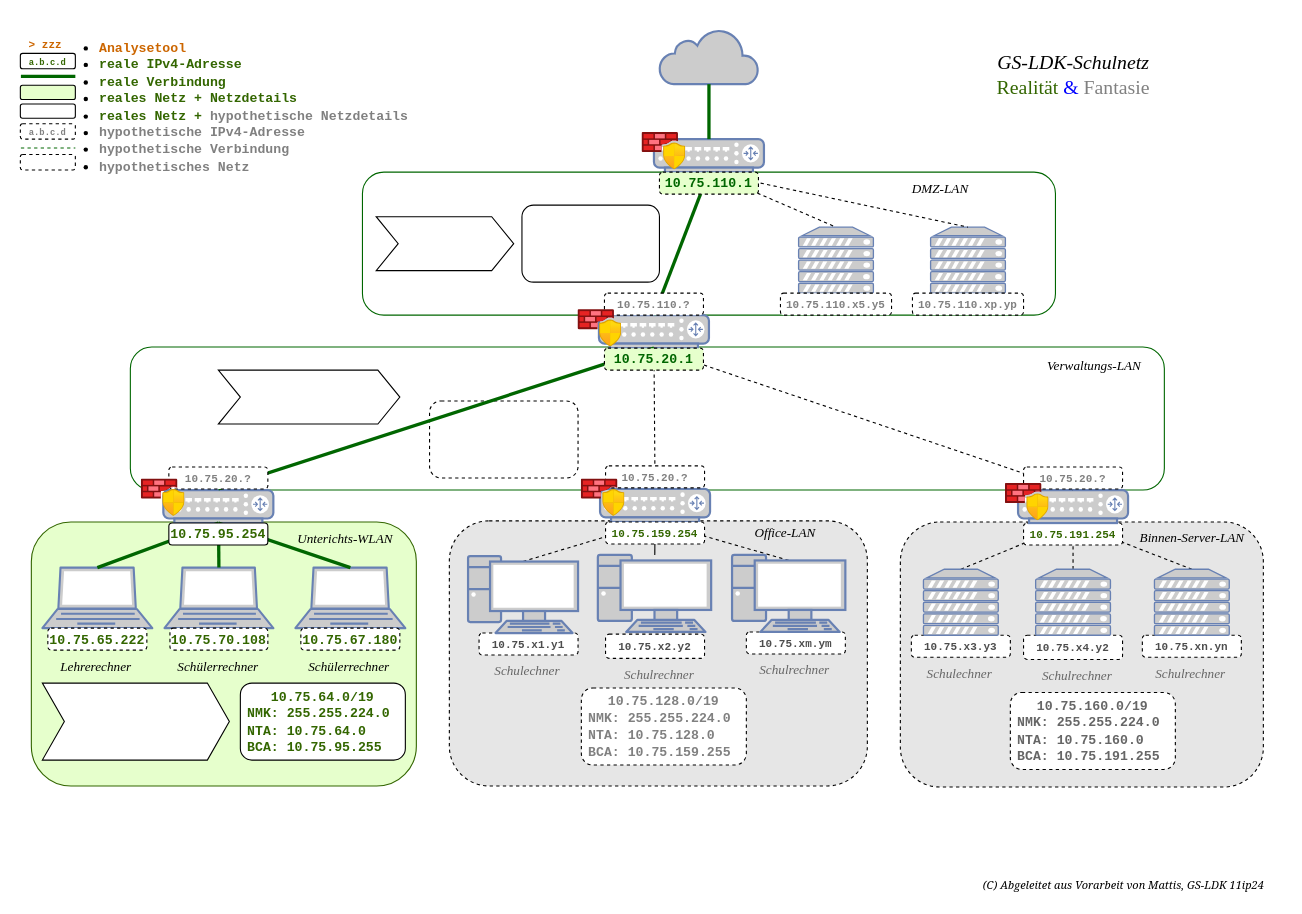
Image size: 1302x914. Some labels were removed from this diagram. Here are the shapes that lost their labels. From the top down, the box of each, then its label:
(375, 216, 514, 271): > tracert ... > ping ... > ping ...
(521, 204, 659, 282): 10.75.110.0/24 NMK: 255.255.255.0 NTA: 10.75.110.0 BCA: 10.75.110.255
(217, 369, 400, 424): > tracert 8.8.8.8 > ping 10.75.20.0 > ping 10.75.20.255
(428, 400, 578, 478): 10.75.20.0/24 NMK: 255.255.255.0 NTA: 10.75.20.0 BCA: 10.75.20.255
(41, 682, 229, 760): > ipconfig ... > netsh ... > tracert 8.8.8.8
